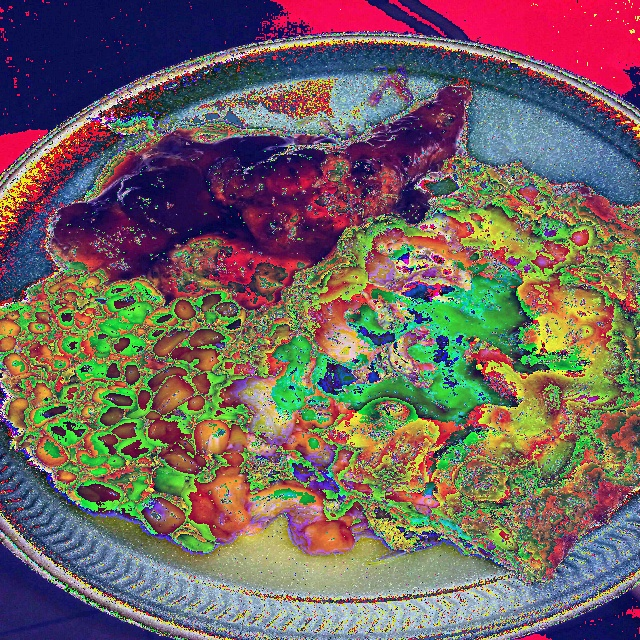background: (0, 65, 640, 583)
